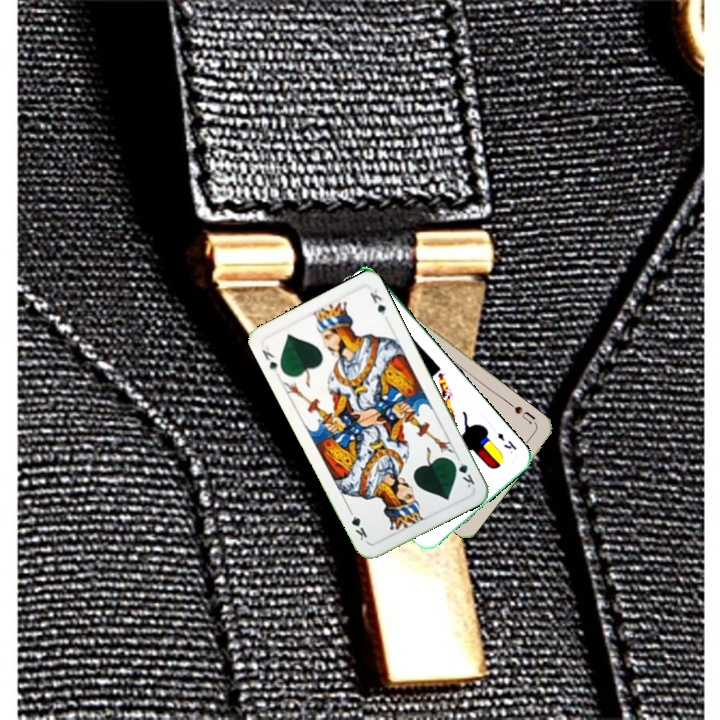EK: (493, 429, 519, 453)
GK: (448, 455, 478, 490), (258, 342, 280, 375)
SU: (505, 399, 540, 428)
